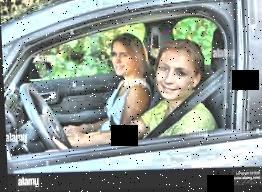seatbelt: (134, 62, 237, 143), (106, 80, 123, 134)
